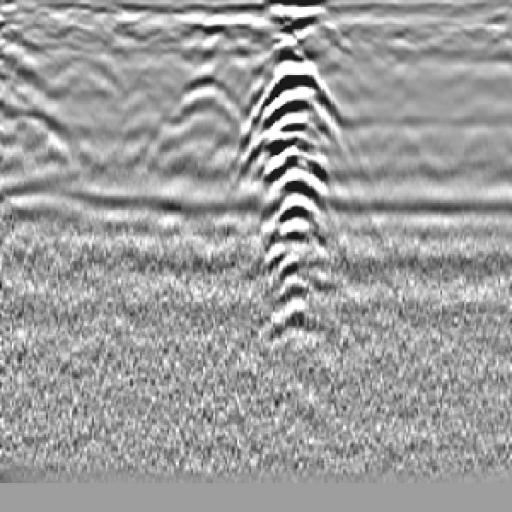metalic: (248, 46, 347, 324)
nonmetalic: (143, 71, 256, 176)
